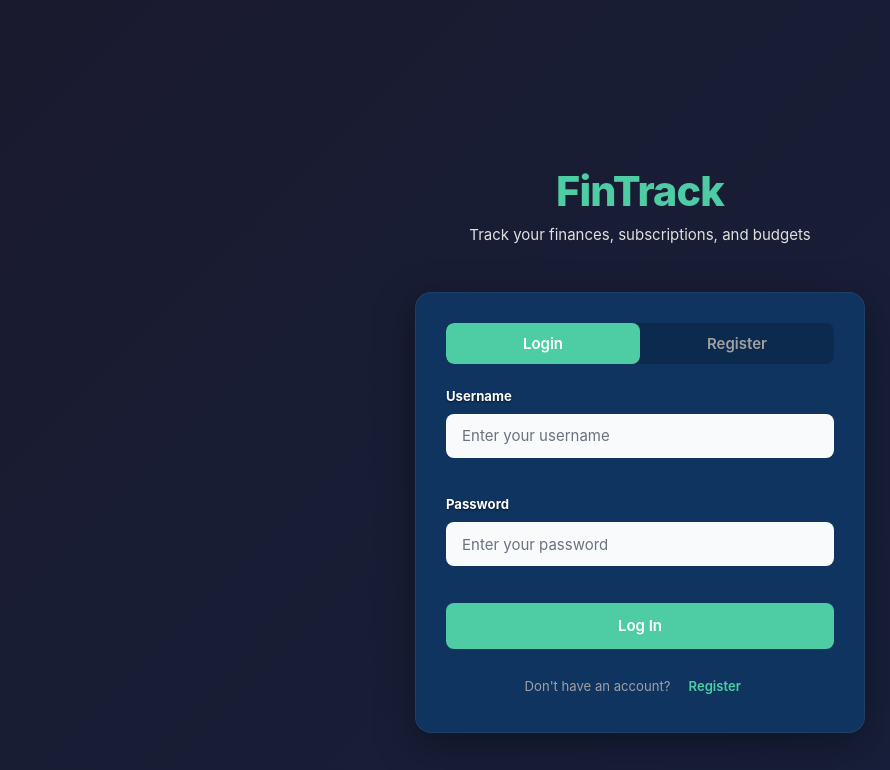
Tab switching › switches to Register mode when Register tab is clicked
Click the 1st button "Register" at (737, 344), box x1=640 y1=323 x2=834 y2=364
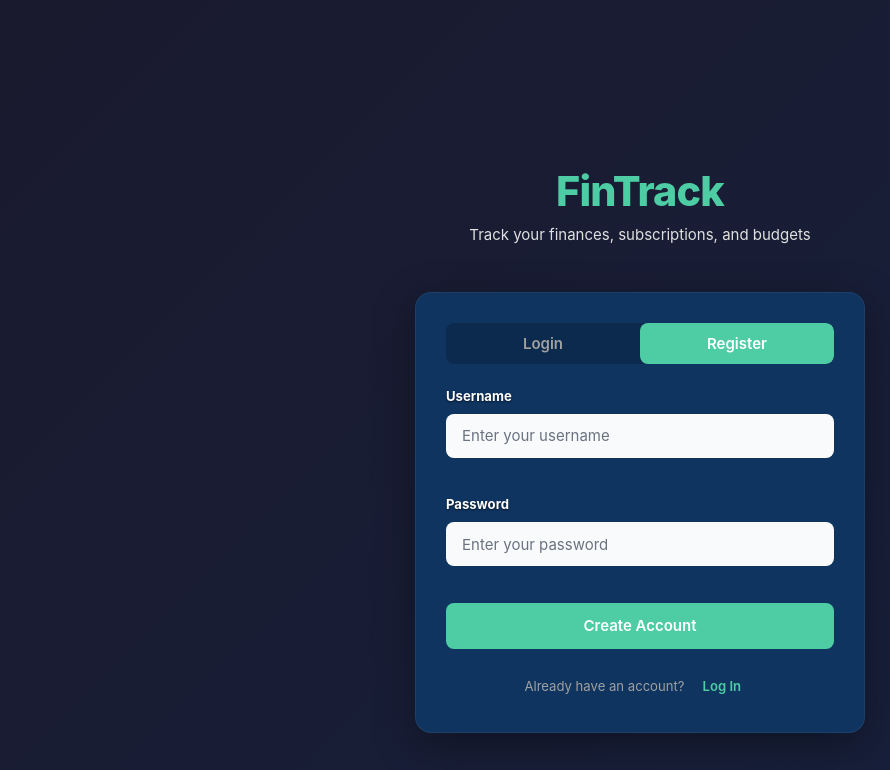
Result: the button "Create Account" is shown at x1=446 y1=603 x2=834 y2=649
